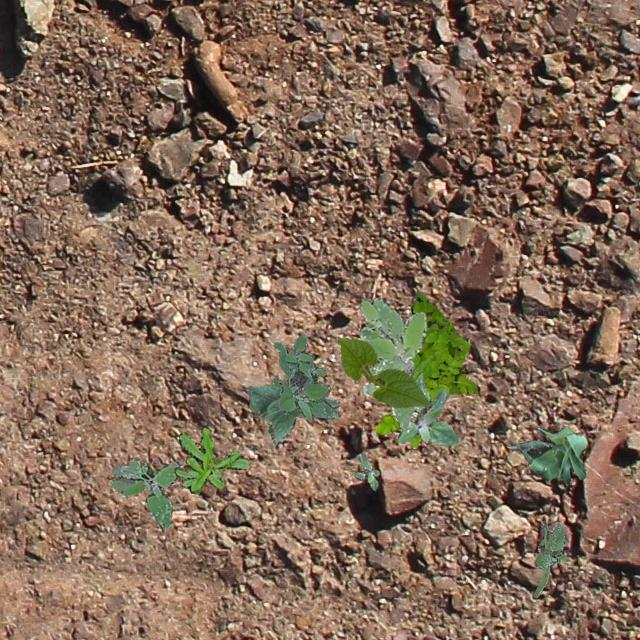crop: (336, 336, 428, 406), (244, 384, 338, 444), (506, 424, 586, 482)
weed: (374, 289, 478, 446), (358, 296, 426, 432), (272, 334, 340, 419), (174, 426, 248, 494), (108, 460, 180, 528), (396, 372, 459, 444), (532, 520, 566, 596), (352, 452, 378, 490), (152, 468, 158, 474)
